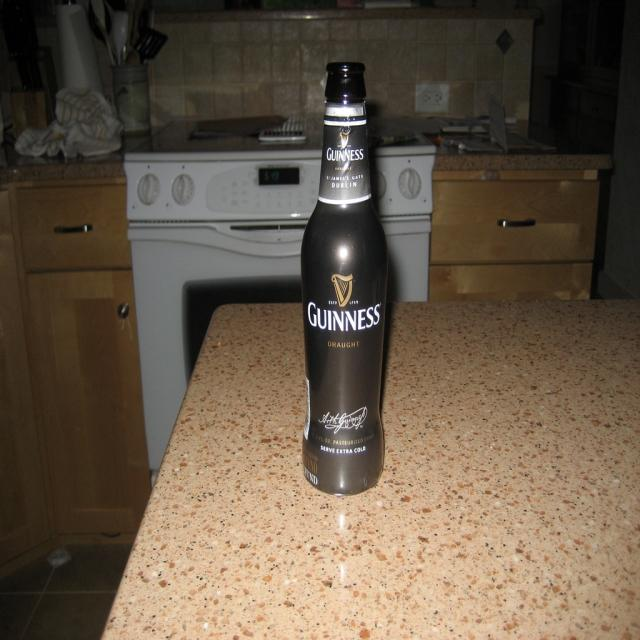guiness: (307, 270, 384, 334), (326, 128, 366, 164)
